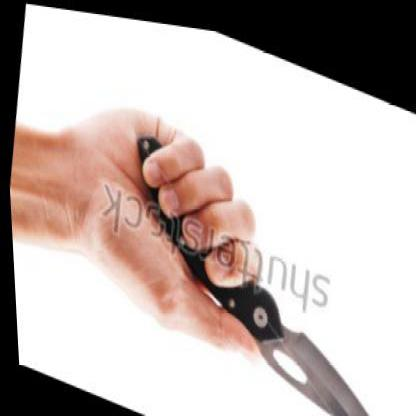knife: (194, 256, 406, 412)
